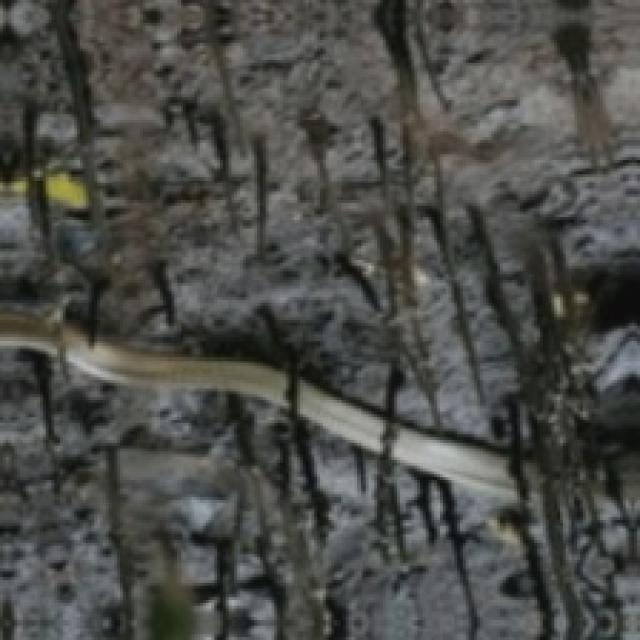king cobra: (0, 309, 286, 406), (391, 423, 517, 500)
